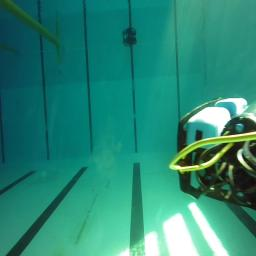Full: (122, 36, 138, 46)
back: (168, 97, 256, 212)
